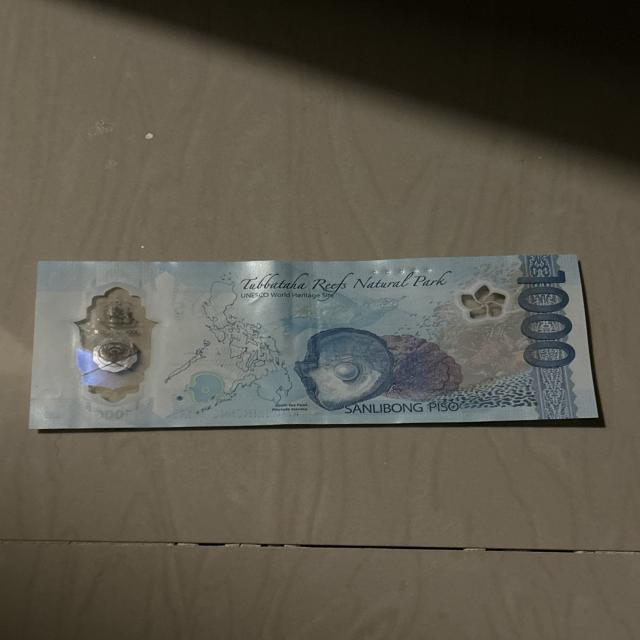clear_window: (71, 282, 156, 410)
sampaguita: (456, 279, 512, 321)
value: (516, 273, 584, 373)
